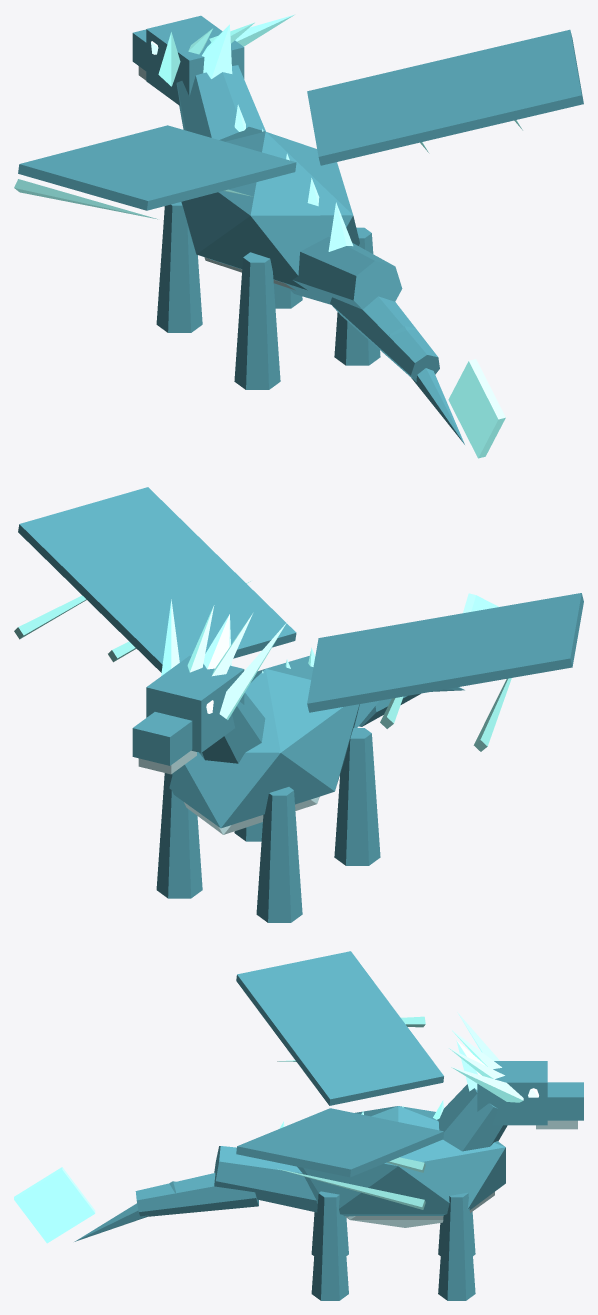
File: dragon_tide.glb
The picture shows the model from 3 angles, top to bottom: view 1: azimuth 30°, elevation 25°; view 2: azimuth 150°, elevation 25°; view 3: azimuth 270°, elevation 25°; orthographic projection. The views are drawn at different scales.
Parts seen in each view (by area): view 1: DragonWingR, DragonBody, DragonWingL, DragonTailA, DragonLegBL, DragonLegFL, DragonNeck, DragonTailB, DragonHead, DragonTailFin, DragonLegBR, DragonTailC (+4 smaller); view 2: DragonWingR, DragonWingL, DragonBody, DragonLegFL, DragonLegBL, DragonHead, DragonLegFR, DragonSnout, DragonNeck, DragonHorn0, DragonCrest, DragonWingStrutR1 (+4 smaller); view 3: DragonWingL, DragonBody, DragonWingR, DragonTailA, DragonTailFin, DragonTailB, DragonLegBR, DragonHead, DragonLegFR, DragonNeck, DragonSnout, DragonBelly (+3 smaller).
Boxes of the visible parts, x1,y1,x2,y2 form: DragonWingR: (307, 29, 583, 165); DragonBody: (181, 127, 359, 290); DragonWingL: (18, 125, 296, 210); DragonTailA: (285, 236, 402, 309); DragonLegBL: (234, 252, 280, 389); DragonLegFL: (156, 202, 202, 332); DragonNeck: (176, 65, 265, 139); DragonTailB: (330, 296, 439, 381); DragonHead: (146, 15, 244, 105); DragonTailFin: (448, 359, 505, 458); DragonLegBR: (334, 227, 380, 365); DragonTailC: (389, 326, 464, 444); DragonWingR: (18, 487, 296, 672); DragonWingL: (307, 593, 583, 712); DragonBody: (169, 656, 359, 828); DragonLegFL: (256, 787, 302, 922); DragonLegBL: (334, 728, 380, 865); DragonHead: (146, 655, 244, 752); DragonLegFR: (156, 773, 202, 898); DragonSnout: (132, 712, 192, 765); DragonNeck: (199, 693, 265, 763); DragonHorn0: (219, 622, 286, 719); DragonCrest: (203, 614, 231, 669); DragonWingStrutR1: (14, 595, 86, 639); DragonWingL: (236, 951, 443, 1105); DragonBody: (297, 1106, 505, 1216); DragonWingR: (236, 1108, 443, 1177); DragonTailA: (214, 1146, 317, 1212); DragonTailFin: (14, 1167, 95, 1243); DragonTailB: (135, 1173, 258, 1216); DragonLegBR: (311, 1191, 348, 1300); DragonHead: (477, 1061, 547, 1125); DragonLegFR: (438, 1192, 475, 1300); DragonNeck: (437, 1084, 507, 1151); DragonSnout: (547, 1082, 583, 1120); DragonBelly: (345, 1192, 494, 1227).
Size of the model in its own units: 5.86 by 2.98 by 6.42.
